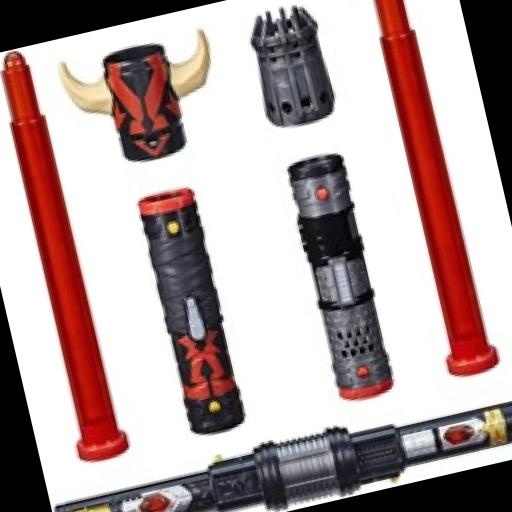lightsaber: (240, 0, 404, 409), (52, 378, 512, 512)
